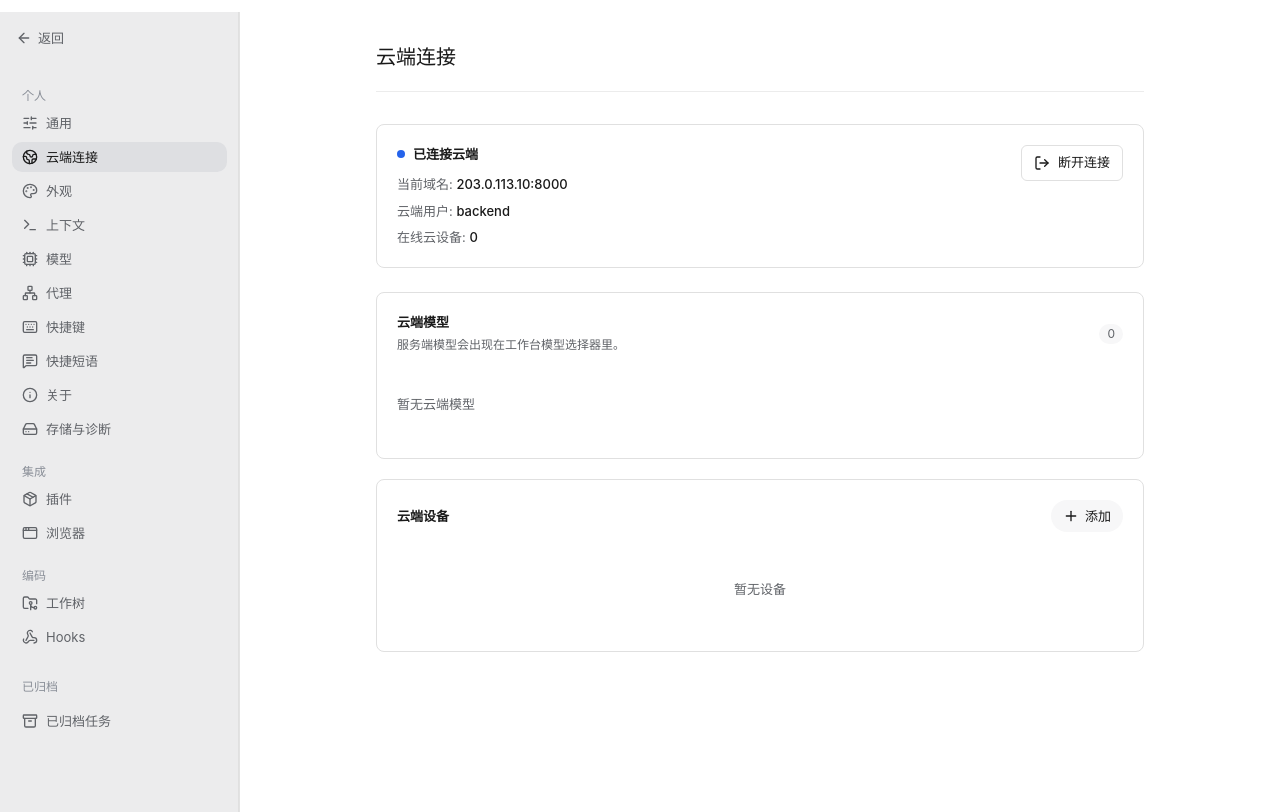
Test case: ConnectionsSettingsPage › opens browser settings from the integrations navigation
Click the button with test id "settings-nav-browser": (120, 533) [12,518,227,548]
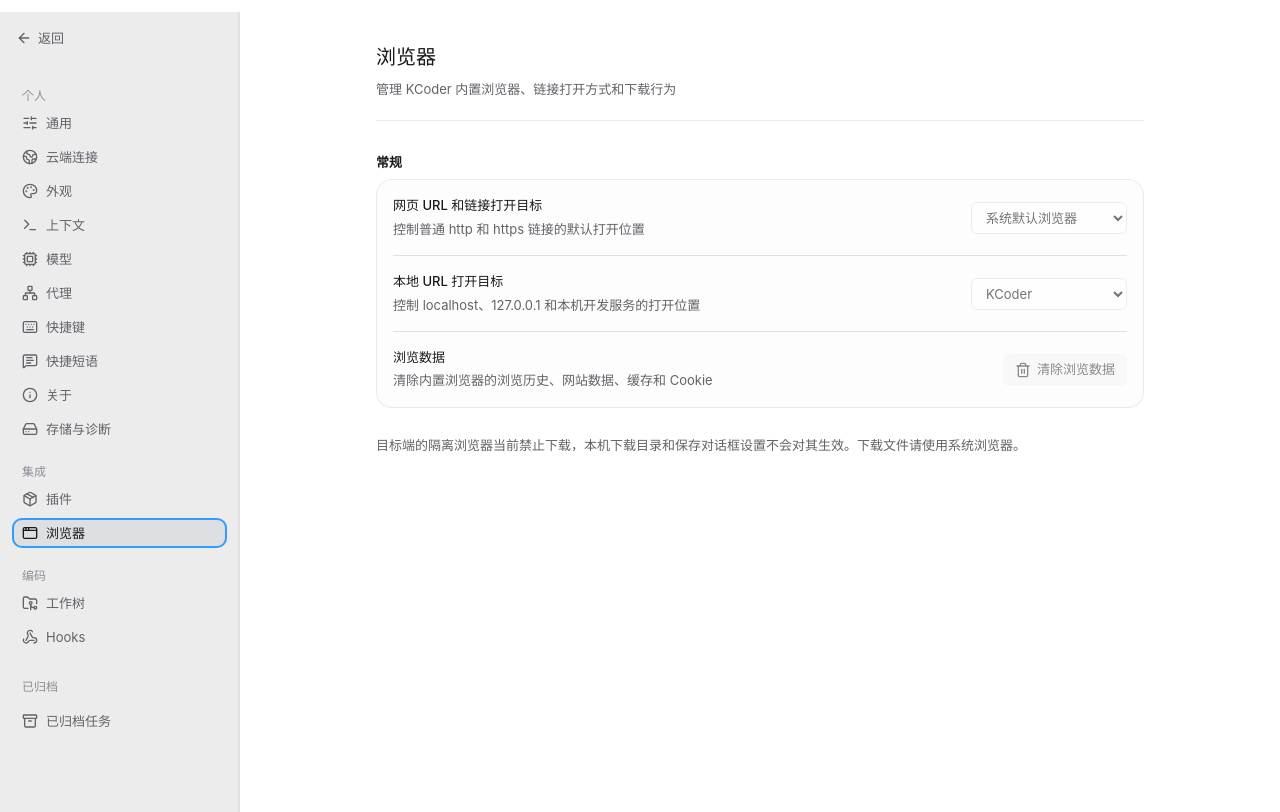
Expected: the element with test id "browser-settings-page" is shown, [376,44,1144,495]
Expected: the dropdown with test id "browser-external-link-target" shows "系统默认浏览器", [971,202,1127,234]
